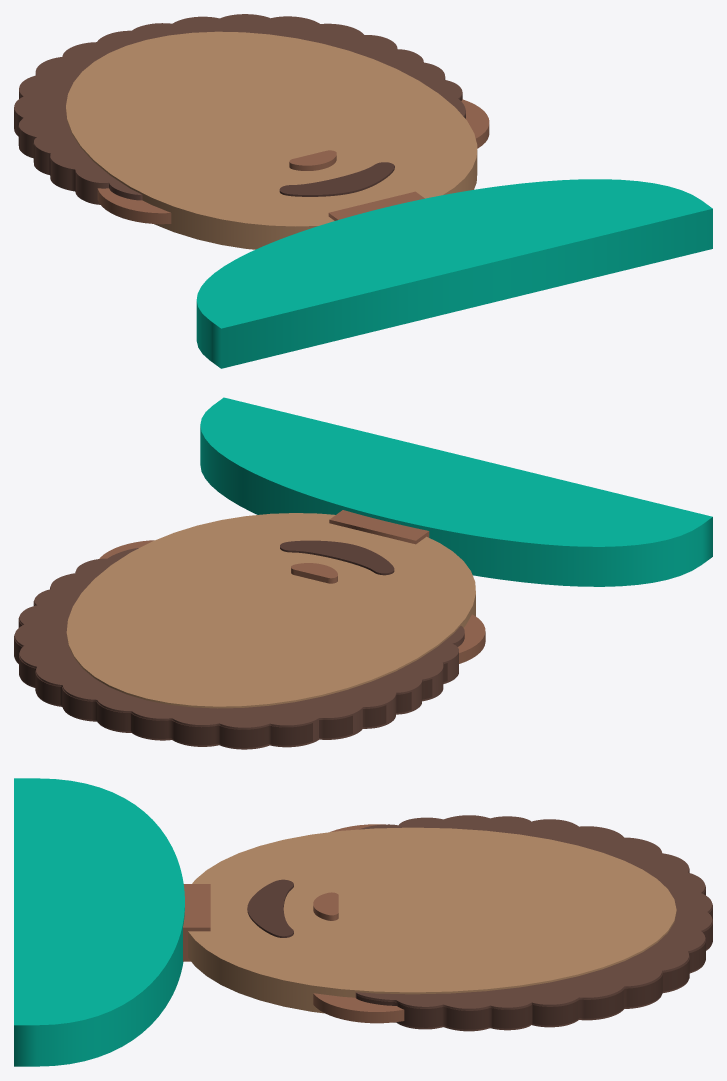
The model's file is emoji_u1f468_1f3fd_200d_1f9b1.glb.
3 renders of one model, top to bottom at view 1: azimuth 30°, elevation 25°; view 2: azimuth 150°, elevation 25°; view 3: azimuth 270°, elevation 25°, orthographic. The views are drawn at different scales.
Visible parts, largest first — view 1: emoji_u1f468_1f3fd_200d_1f9b1; view 2: emoji_u1f468_1f3fd_200d_1f9b1; view 3: emoji_u1f468_1f3fd_200d_1f9b1.
Part boxes in pixels (left/top/right/bottom): emoji_u1f468_1f3fd_200d_1f9b1: left=14, top=14, right=712, bottom=368; emoji_u1f468_1f3fd_200d_1f9b1: left=14, top=397, right=712, bottom=749; emoji_u1f468_1f3fd_200d_1f9b1: left=14, top=778, right=712, bottom=1066.
Bounding box in the file's own units: 0.0282 × 0.0022 × 0.0337.
